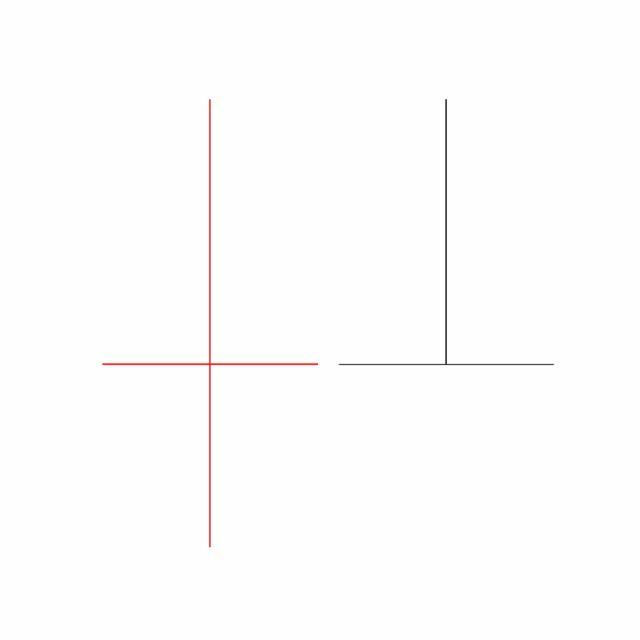Gravestone Doji: (328, 97, 566, 368)
